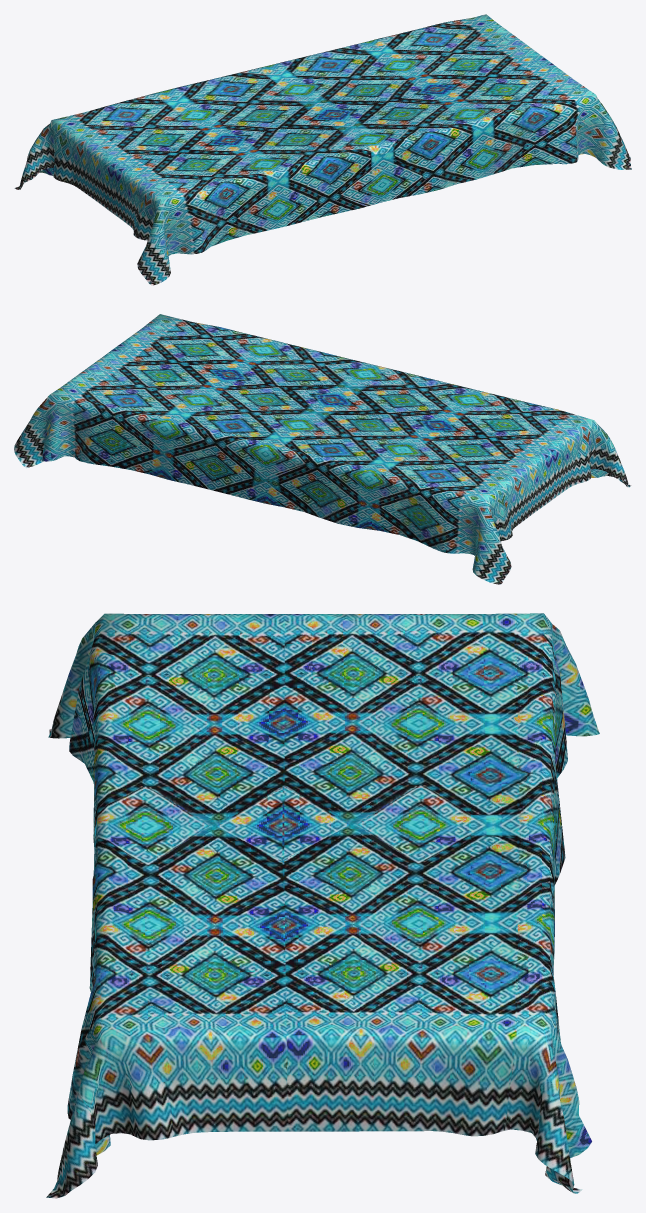
The model's file is TrayCloth.FBX.
3 renders of one model, top to bottom at view 1: azimuth 30°, elevation 25°; view 2: azimuth 150°, elevation 25°; view 3: azimuth 270°, elevation 25°, orthographic. The views are drawn at different scales.
Parts seen in each view (by area): view 1: TrayCloth; view 2: TrayCloth; view 3: TrayCloth.
Part boxes in pixels (left/top/right/bottom): TrayCloth: left=14, top=14, right=631, bottom=285; TrayCloth: left=14, top=314, right=631, bottom=584; TrayCloth: left=46, top=613, right=599, bottom=1198.
Size of the model in its own units: 32.39 by 4.49 by 15.75.
